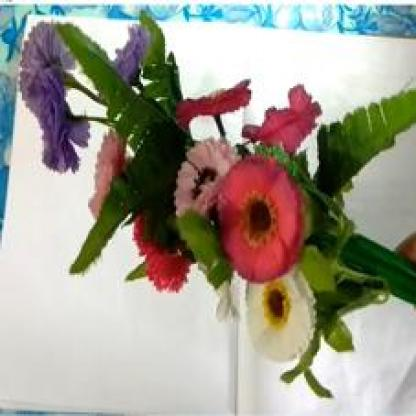flower: (20, 9, 414, 394)
